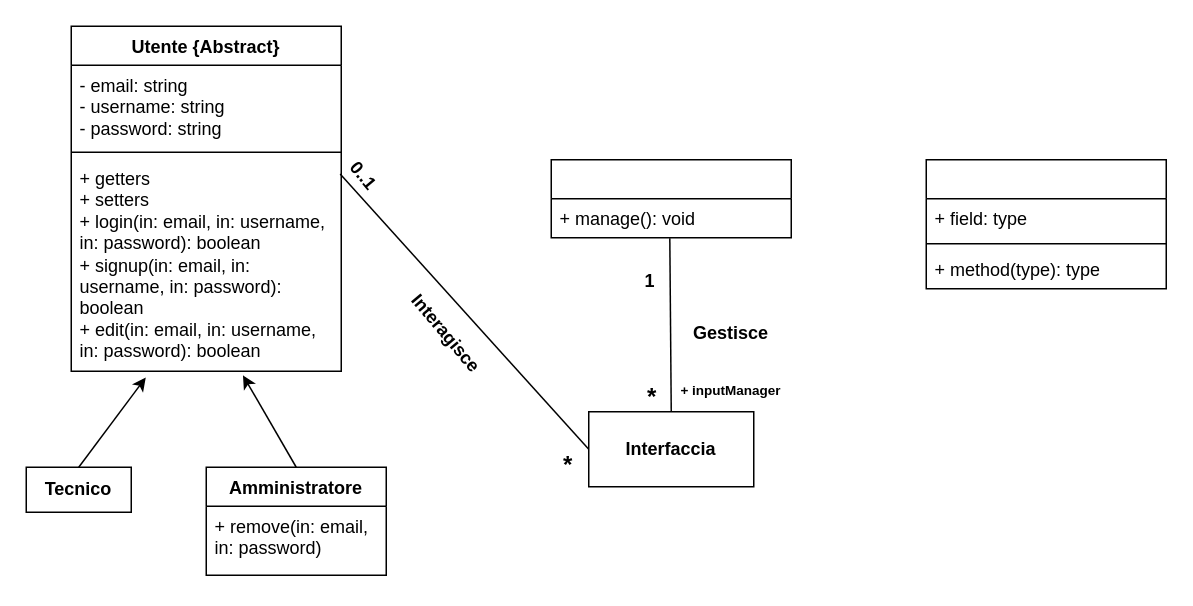
Some shapes in this 1193 by 606 pixel diagram are drawn without their labels. The box of each missing label's shape, as (x1, y1, x2, y2) in pixels:
DatabaseLocale: (925, 158, 1166, 289)
GestioneInput: (550, 158, 791, 238)
